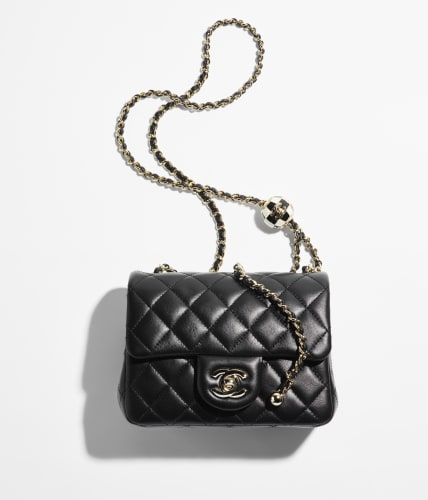channel: (127, 265, 340, 431), (140, 278, 259, 344), (201, 354, 268, 408), (274, 289, 308, 390)
